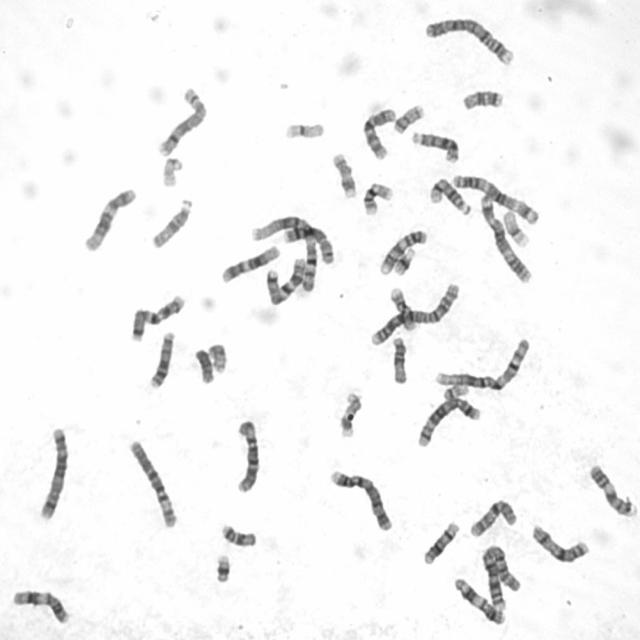A1: (248, 215, 316, 294), (434, 337, 530, 392)
A2: (369, 282, 462, 346), (480, 544, 522, 612)
A3: (480, 194, 532, 284), (453, 173, 539, 224)
B4: (425, 16, 515, 68), (327, 467, 395, 533)
B5: (416, 398, 482, 449), (40, 426, 68, 520)
C10: (470, 496, 517, 540), (362, 108, 398, 161)
C11: (453, 578, 506, 626), (11, 587, 73, 626)
C12: (84, 188, 137, 252), (222, 244, 282, 283)
C6: (128, 439, 179, 528), (230, 418, 264, 495)
C7: (131, 294, 187, 342), (267, 256, 306, 305)
C8: (158, 87, 208, 157), (283, 226, 336, 266)
C9: (588, 463, 634, 518), (380, 229, 428, 276)
D13: (149, 332, 176, 391), (412, 130, 460, 162)
D14: (422, 519, 460, 566), (429, 178, 472, 217)
D15: (151, 198, 194, 252), (391, 336, 408, 385)
E16: (360, 179, 397, 219), (389, 288, 417, 332)
E17: (338, 389, 364, 441), (332, 152, 359, 199)
E18: (459, 88, 505, 113), (222, 524, 258, 548)
F19: (503, 209, 532, 248), (286, 120, 326, 142)
F20: (394, 105, 425, 134), (208, 344, 228, 375)
G21: (394, 248, 417, 276), (215, 554, 231, 584)
G22: (162, 157, 184, 189), (441, 384, 469, 399)
X: (529, 525, 592, 567)
Y: (194, 348, 214, 382)
